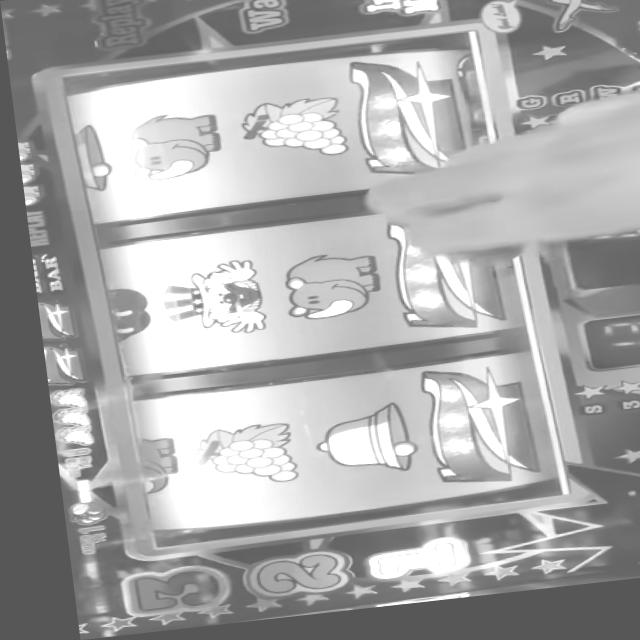bar: (25, 253, 58, 294)
bell: (301, 408, 401, 485), (70, 122, 110, 194)
cherry: (101, 285, 142, 344), (56, 500, 93, 527)
clown: (149, 262, 258, 345)
display: (64, 37, 551, 553)
elephant: (268, 257, 372, 328), (118, 113, 216, 184), (121, 438, 167, 497), (18, 182, 37, 205), (14, 139, 32, 160), (16, 161, 33, 182)
grape: (179, 422, 288, 494), (231, 103, 341, 170), (46, 423, 86, 449), (42, 388, 78, 409), (44, 408, 79, 428)
z: (379, 218, 494, 342), (350, 60, 457, 186), (414, 371, 523, 494), (34, 344, 71, 386), (30, 301, 63, 342)
